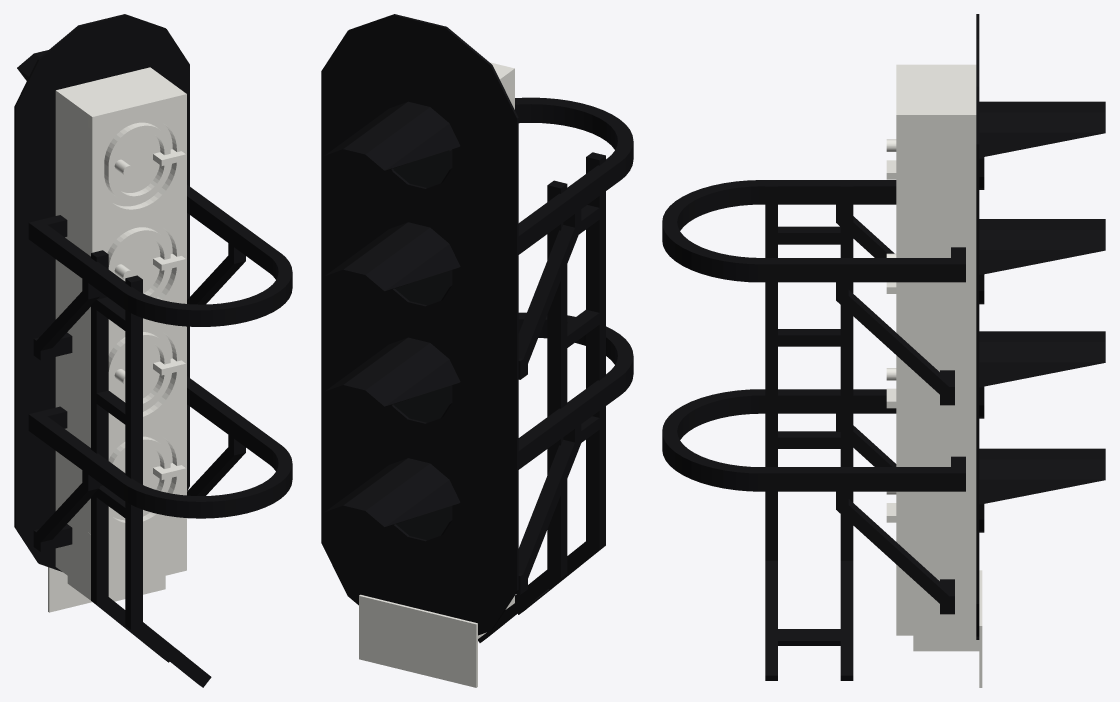
File: 4chamber_right.obj
3 renders of one model, left to right at view 1: azimuth 30°, elevation 25°; view 2: azimuth 150°, elevation 25°; view 3: azimuth 270°, elevation 25°, orthographic. The views are drawn at different scales.
Parts seen in each view (by area): view 1: signal_head, railing, signal_plate, ladder_top, ladder_middle, signal_id; view 2: signal_plate, railing, ladder_top, signal_id, ladder_middle, green, orange_bottom, red, white, signal_head; view 3: signal_head, railing, signal_plate, ladder_top, ladder_middle.
Boxes of the visible parts, bbox=[...] form: signal_head: bbox=[55, 67, 186, 601]; railing: bbox=[28, 184, 292, 551]; signal_plate: bbox=[14, 14, 189, 571]; ladder_top: bbox=[91, 250, 142, 629]; ladder_middle: bbox=[94, 594, 211, 687]; signal_id: bbox=[48, 567, 91, 612]; signal_plate: bbox=[321, 14, 518, 635]; railing: bbox=[515, 97, 633, 594]; ladder_top: bbox=[547, 152, 605, 577]; signal_id: bbox=[359, 594, 477, 687]; ladder_middle: bbox=[478, 538, 603, 642]; green: bbox=[393, 150, 449, 187]; orange_bottom: bbox=[393, 386, 449, 422]; red: bbox=[395, 270, 449, 305]; white: bbox=[396, 506, 449, 539]; signal_head: bbox=[478, 62, 514, 638]; signal_head: bbox=[886, 64, 979, 651]; railing: bbox=[662, 180, 965, 614]; signal_plate: bbox=[976, 14, 1105, 639]; ladder_top: bbox=[765, 180, 853, 560]; ladder_middle: bbox=[765, 560, 853, 680].
Size of the model in its own units: 0.61 by 2 by 1.23.
